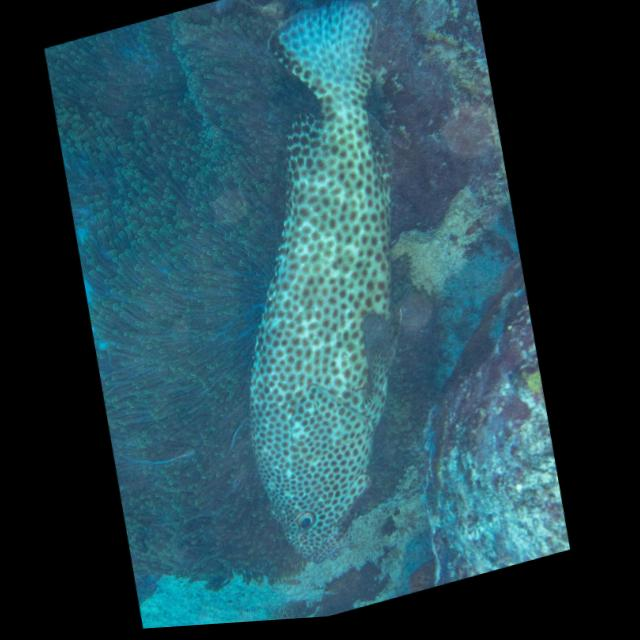Groupers: (157, 0, 486, 587)
